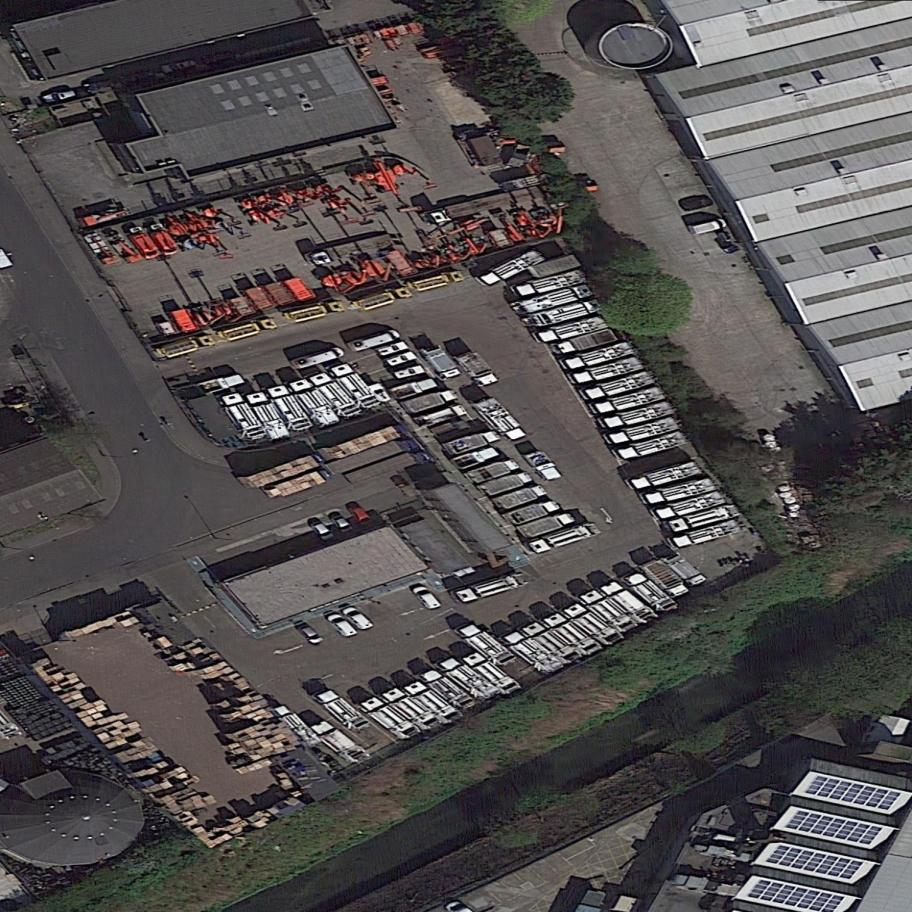large-vehicle: (419, 184, 550, 228), (497, 621, 570, 684), (450, 612, 523, 675), (355, 689, 427, 752), (556, 593, 629, 655), (467, 385, 534, 452), (538, 603, 608, 666), (594, 570, 665, 632), (323, 352, 387, 420), (574, 580, 644, 642), (457, 643, 525, 705), (304, 362, 366, 428), (378, 678, 445, 739), (436, 650, 502, 711), (415, 660, 483, 719), (310, 680, 375, 741), (305, 712, 372, 771), (285, 369, 343, 437), (400, 672, 466, 731), (518, 613, 585, 671), (301, 229, 398, 268), (619, 562, 681, 621), (475, 244, 549, 292), (266, 697, 325, 757), (507, 282, 597, 319), (217, 384, 269, 448), (450, 569, 531, 609), (266, 376, 316, 440), (639, 552, 696, 608), (244, 383, 293, 448), (556, 338, 641, 374), (625, 457, 705, 495), (576, 368, 658, 404), (525, 520, 604, 557), (567, 354, 647, 389), (508, 267, 590, 301), (666, 501, 745, 536), (614, 428, 690, 464), (598, 399, 678, 433), (453, 343, 503, 397), (651, 489, 729, 523), (527, 296, 605, 330), (605, 415, 683, 449), (666, 518, 746, 551), (639, 476, 719, 508), (418, 336, 466, 389), (591, 385, 670, 417), (532, 314, 610, 346), (660, 545, 711, 592), (438, 426, 505, 461), (411, 399, 472, 437), (152, 332, 220, 366), (474, 467, 538, 503), (522, 443, 569, 491), (462, 454, 524, 490), (549, 326, 620, 357), (215, 314, 281, 347), (500, 495, 564, 529), (489, 481, 551, 515), (516, 509, 579, 542), (351, 284, 415, 316), (342, 325, 404, 357), (282, 297, 348, 327), (125, 219, 166, 267), (288, 344, 347, 375), (447, 443, 504, 475), (406, 267, 468, 296), (146, 217, 182, 263), (194, 370, 248, 400), (386, 375, 441, 403)
small-vehicle: (324, 607, 361, 644), (339, 601, 377, 636), (410, 579, 444, 616), (295, 618, 327, 649), (308, 515, 338, 546), (327, 508, 357, 539), (118, 68, 157, 89), (347, 500, 375, 529), (687, 217, 729, 236), (200, 49, 239, 69), (159, 57, 199, 76), (679, 194, 713, 213), (39, 89, 77, 106), (82, 78, 119, 95)
storage-tank: (576, 23, 676, 72)
